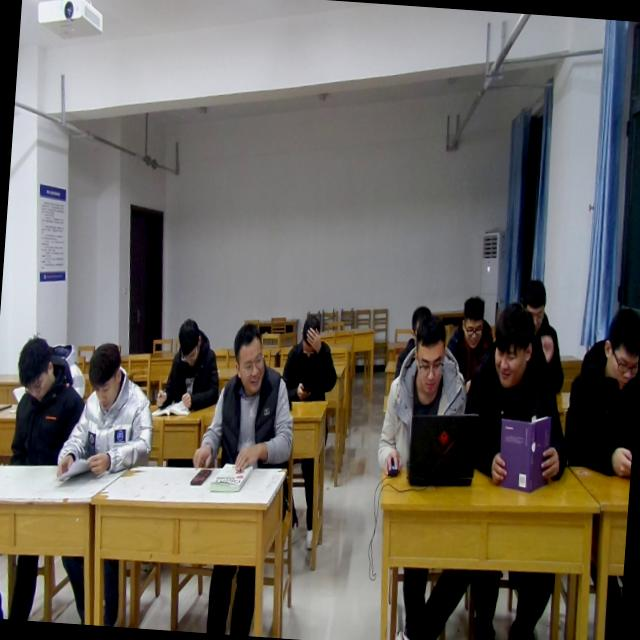down: (489, 300, 537, 394), (408, 310, 452, 402), (597, 294, 640, 388), (10, 330, 59, 406), (84, 337, 128, 412), (172, 315, 205, 369), (458, 294, 488, 353), (296, 307, 324, 361), (519, 275, 547, 328)
sit: (459, 300, 578, 490), (188, 317, 302, 480), (374, 307, 476, 483), (53, 336, 161, 490), (561, 295, 640, 479), (6, 326, 87, 474), (153, 312, 225, 414), (511, 276, 572, 395), (441, 294, 498, 402), (280, 310, 342, 404)
